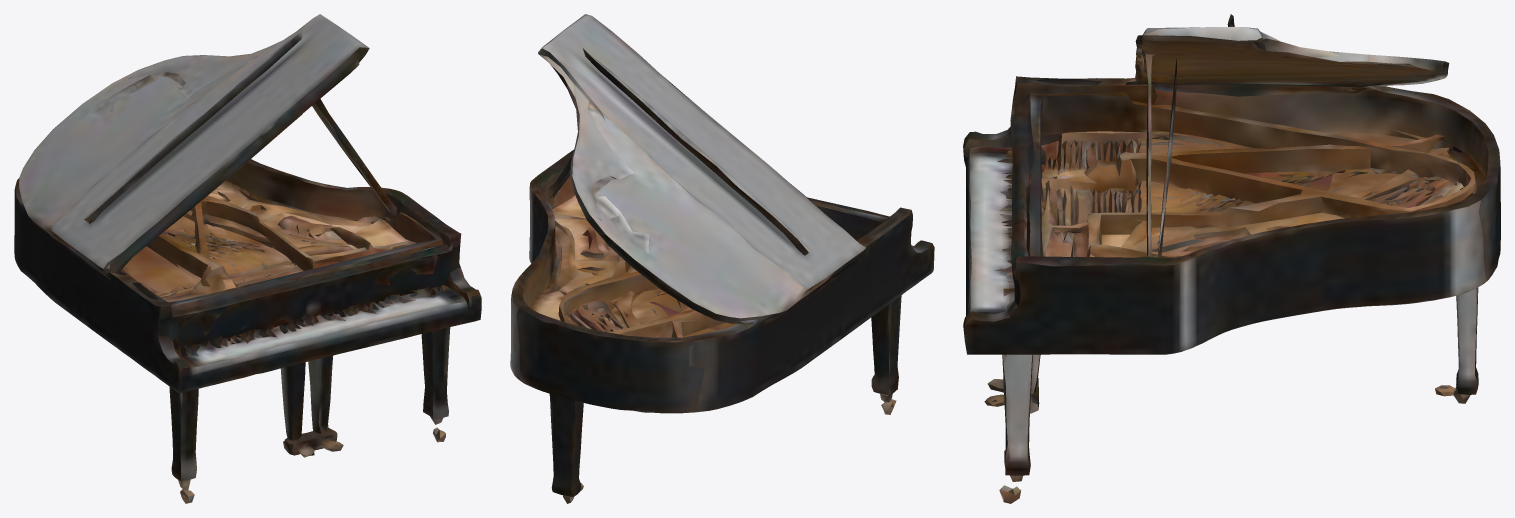
File: piano.glb
The picture shows the model from 3 angles, left to right: view 1: azimuth 30°, elevation 25°; view 2: azimuth 150°, elevation 25°; view 3: azimuth 270°, elevation 25°; orthographic projection. The views are drawn at different scales.
Parts seen in each view (by area): view 1: geometry_0; view 2: geometry_0; view 3: geometry_0.
Boxes of the visible parts, x1,y1,x2,y2 form: geometry_0: (14,14,481,503); geometry_0: (510,14,934,503); geometry_0: (963,14,1500,503).
Size of the model in its own units: 1.8 by 2.02 by 2.13.
1 material, 1 textured.
